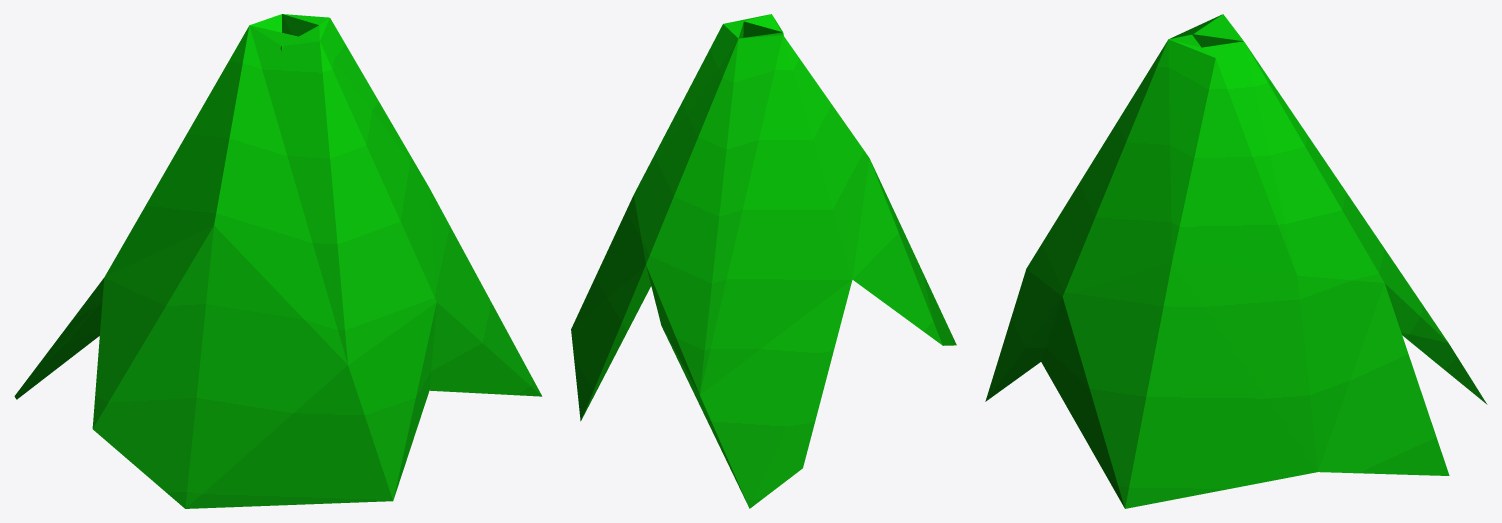
The model's file is Prefab_Foliage_Tree_Spruce_Leaves_G.glb.
3 renders of one model, left to right at view 1: azimuth 30°, elevation 25°; view 2: azimuth 150°, elevation 25°; view 3: azimuth 270°, elevation 25°, orthographic. The views are drawn at different scales.
Parts seen in each view (by area): view 1: Spruce_A_Trunk.010; view 2: Spruce_A_Trunk.010; view 3: Spruce_A_Trunk.010.
Boxes of the visible parts, left/top/right/bottom form: Spruce_A_Trunk.010: left=14, top=14, right=542, bottom=508; Spruce_A_Trunk.010: left=571, top=14, right=956, bottom=508; Spruce_A_Trunk.010: left=985, top=14, right=1487, bottom=508.
Bounding box in the file's own units: 2.89 × 2.98 × 3.11.
Materials: 1 (1 with a texture image).
